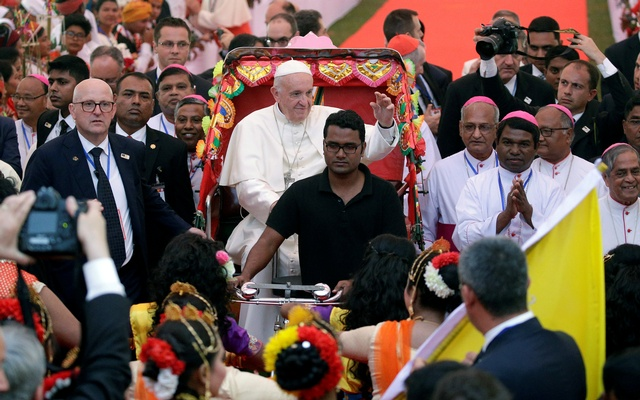Rickshaw: (199, 30, 434, 385)
